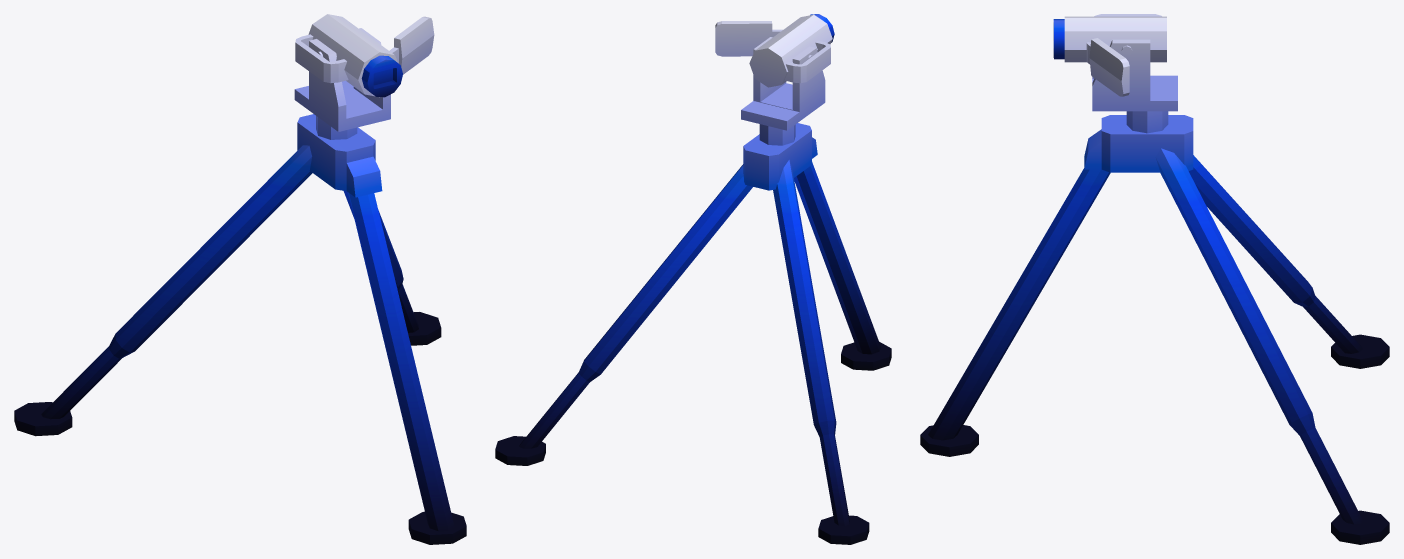
3 views of the same model, side by side, from view 1: azimuth 30°, elevation 25°; view 2: azimuth 150°, elevation 25°; view 3: azimuth 270°, elevation 25° (orthographic). The views are drawn at different scales.
Visible parts, largest first — view 1: Cylinder.001; view 2: Cylinder.001; view 3: Cylinder.001.
Part boxes in pixels (left/top/right/bottom): Cylinder.001: left=14, top=14, right=466, bottom=544; Cylinder.001: left=495, top=14, right=891, bottom=544; Cylinder.001: left=920, top=14, right=1389, bottom=544.
Size of the model in its own units: 3.51 by 3.48 by 3.46.
Materials: 1 (1 with a texture image).
